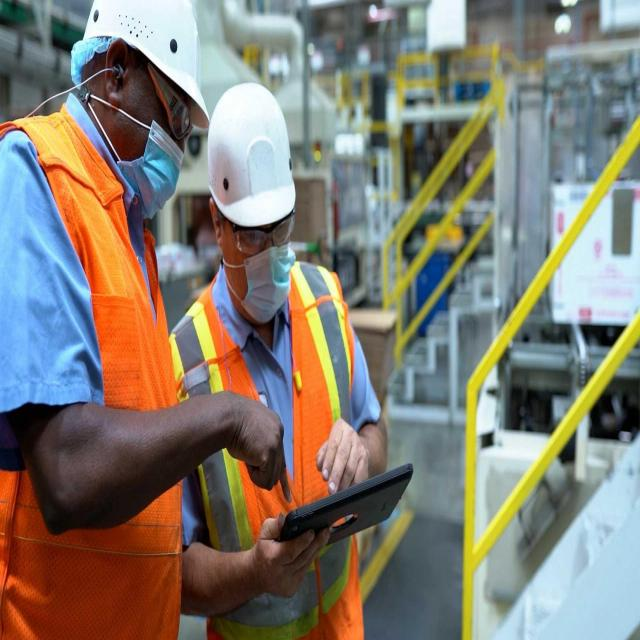Reflective-Jacket: (0, 91, 188, 639), (183, 265, 363, 640)
Safety-Helmet: (72, 0, 209, 120), (204, 73, 301, 227)
